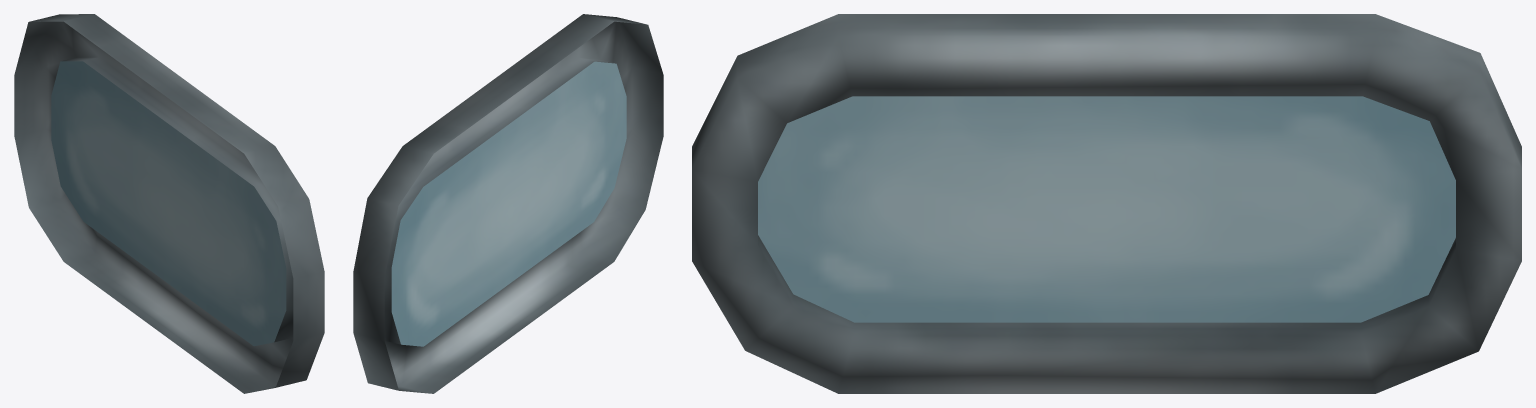
The model's file is Window.fbx.
3 views of the same model, side by side, from view 1: azimuth 30°, elevation 25°; view 2: azimuth 150°, elevation 25°; view 3: azimuth 270°, elevation 25° (orthographic). The views are drawn at different scales.
Visible parts, largest first — view 1: Window; view 2: Window; view 3: Window.
Part boxes in pixels (x1,y1,x2,y2): Window: (14, 14, 324, 393); Window: (353, 14, 663, 393); Window: (692, 14, 1521, 393).
Bounding box in the file's own units: 0.0713 × 0.5256 × 1.11.
